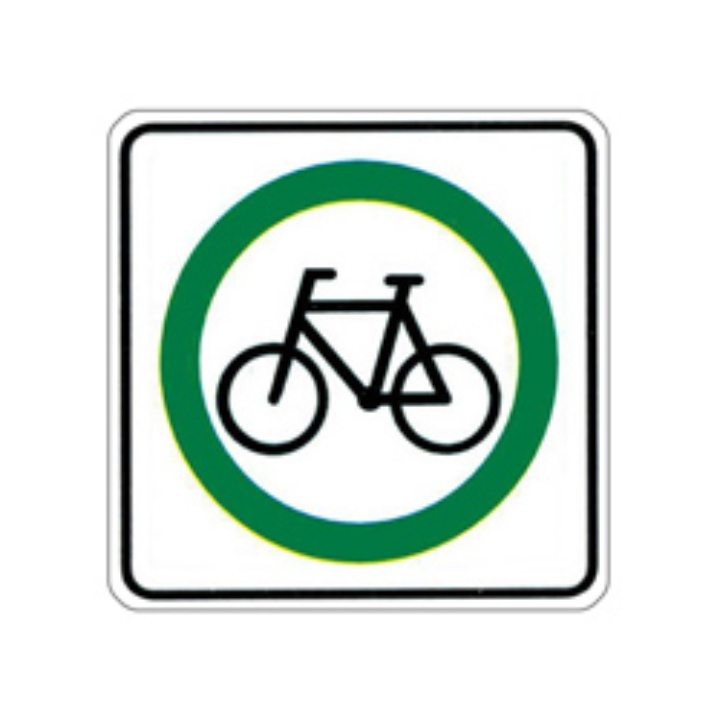bicycle: (215, 267, 503, 455)
